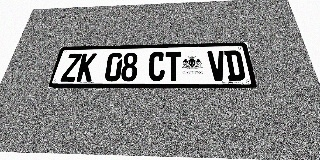0: (104, 53, 123, 82)
8: (120, 52, 139, 81)
C: (148, 52, 165, 81)
D: (224, 50, 246, 81)
K: (76, 53, 97, 82)
T: (165, 51, 182, 81)
V: (207, 51, 228, 81)
Z: (60, 54, 82, 82)
